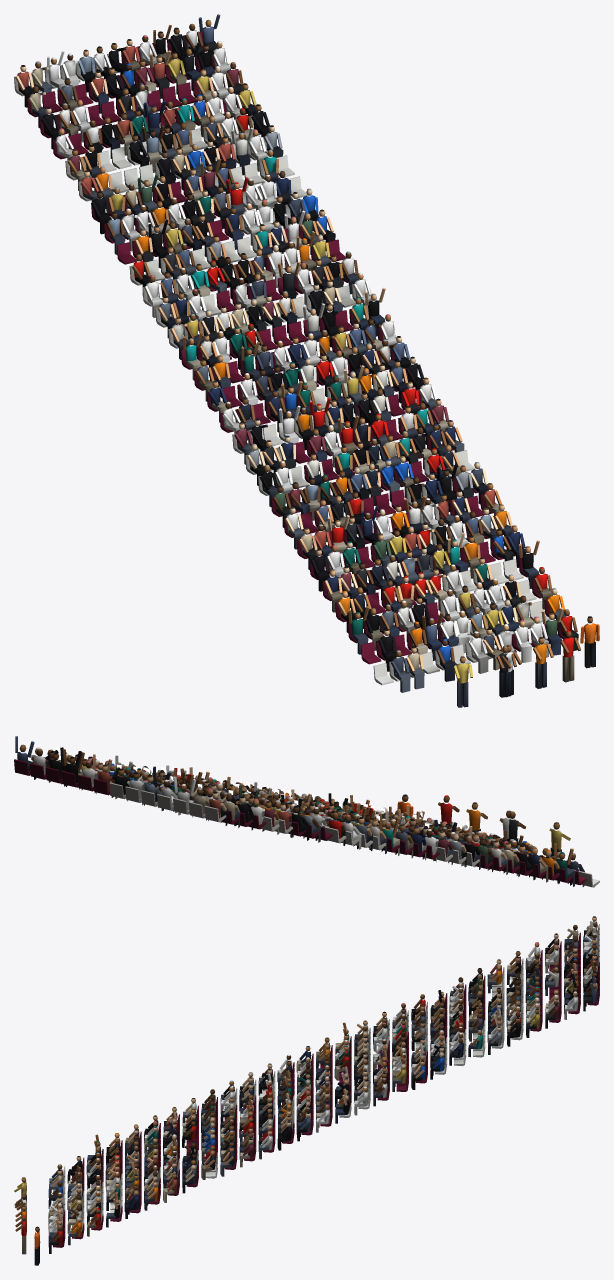
File: stand_north_kit_2.glb
The picture shows the model from 3 angles, top to bottom: view 1: azimuth 30°, elevation 25°; view 2: azimuth 150°, elevation 25°; view 3: azimuth 270°, elevation 25°; orthographic projection. The views are drawn at different scales.
Parts seen in each view (by area): view 1: kit_2; view 2: kit_2; view 3: kit_2.
Part boxes in pixels (x1,y1,x2,y2): kit_2: (14,14,599,707); kit_2: (14,736,599,887); kit_2: (14,916,599,1265).
Bounding box in the file's own units: 7.59 × 13.01 × 24.55.
